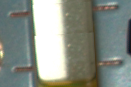border: (94, 58, 124, 68), (92, 3, 120, 12), (11, 65, 37, 74), (7, 10, 33, 18)
liquidlevel: (36, 81, 99, 87)
